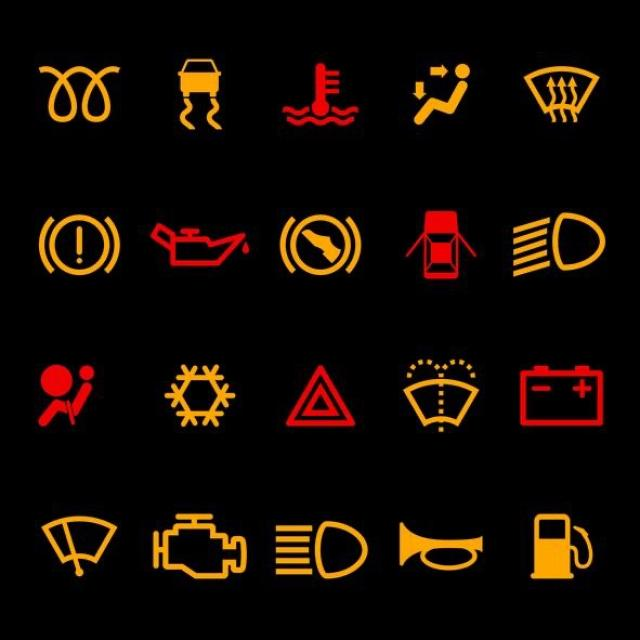kontrolka: (502, 202, 614, 287), (391, 350, 487, 440), (24, 204, 130, 285), (148, 506, 250, 590), (272, 206, 369, 293), (266, 513, 374, 590), (395, 201, 487, 287), (30, 52, 134, 128), (519, 503, 604, 595), (513, 52, 611, 128), (158, 356, 244, 441), (270, 360, 363, 436), (392, 512, 489, 584), (516, 359, 610, 433), (392, 52, 480, 129), (146, 213, 256, 274), (158, 51, 238, 134), (277, 57, 367, 130), (34, 509, 121, 579), (28, 356, 99, 432)
